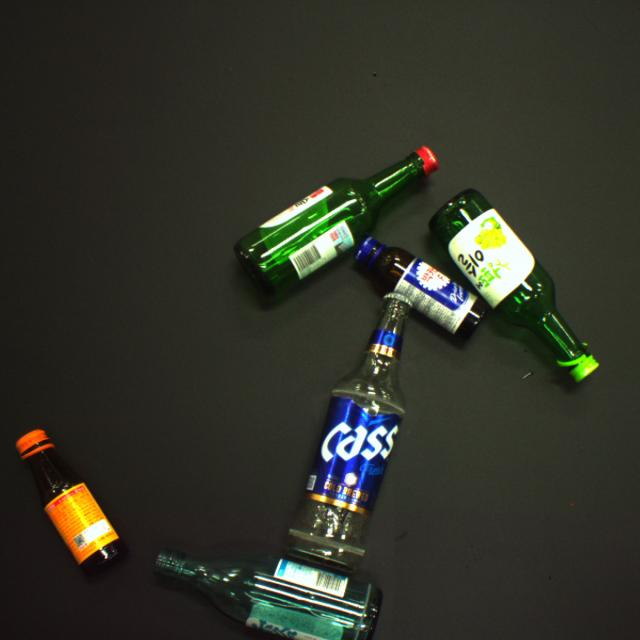beer-bottle: (288, 293, 412, 574)
soju-bottle: (429, 188, 599, 384), (234, 146, 439, 295), (155, 547, 383, 639)
